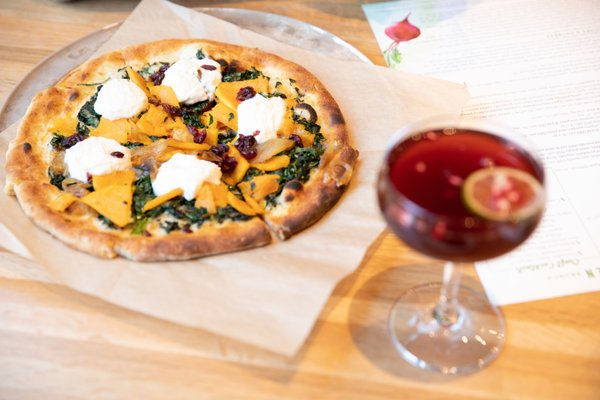curry: (4, 0, 600, 388)
sandwich: (1, 38, 358, 263), (376, 119, 547, 374)
